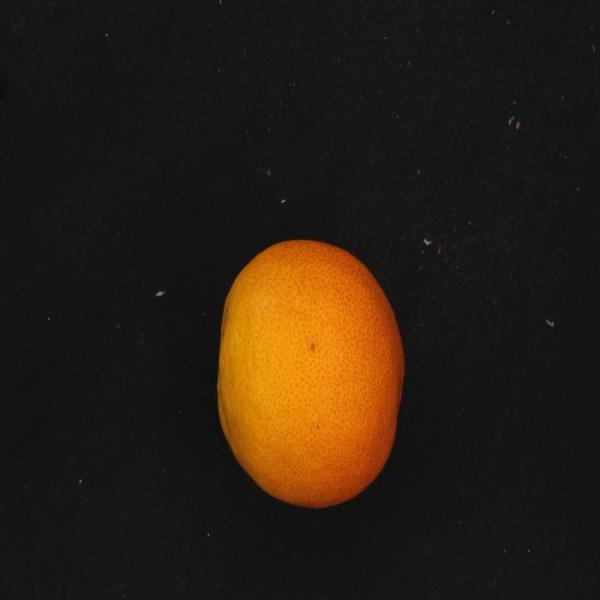Sana: (212, 224, 410, 518)
